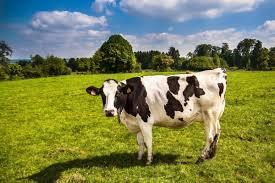cow: (85, 68, 227, 165)
